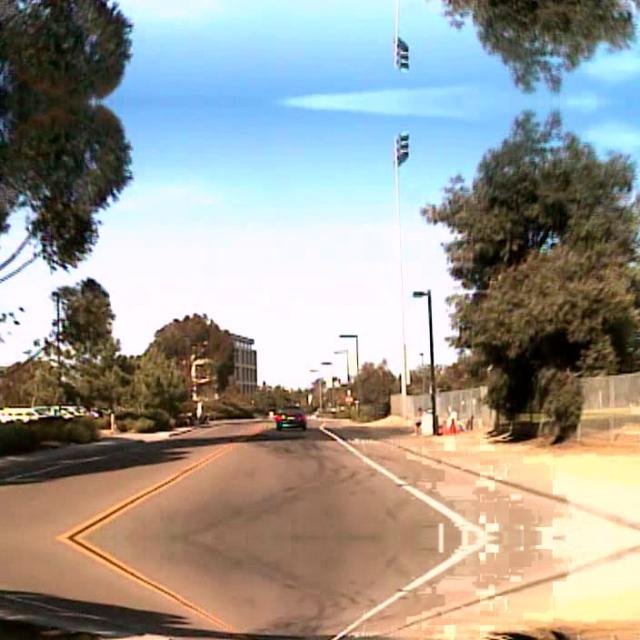stop: (343, 394, 352, 402)
